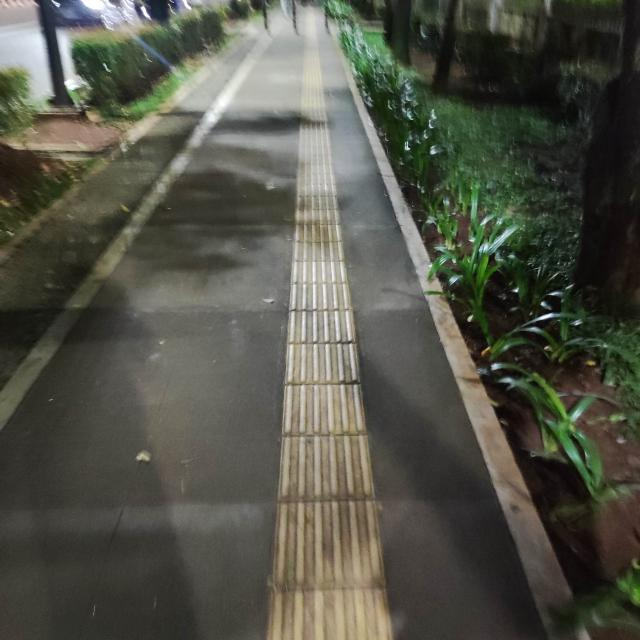lurus: (267, 100, 393, 640)
